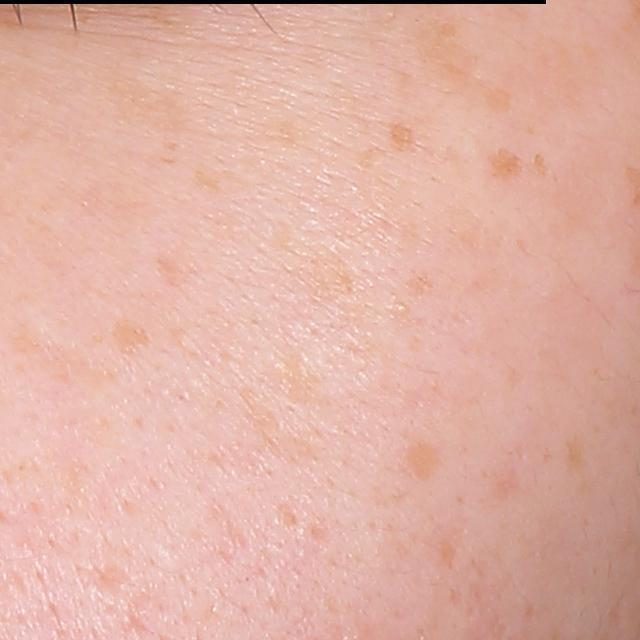melasma: (253, 213, 378, 311), (404, 10, 516, 108), (238, 383, 322, 462), (262, 347, 331, 407), (188, 162, 250, 195), (152, 248, 194, 291), (475, 143, 519, 179), (563, 437, 591, 493), (411, 440, 444, 476), (387, 123, 421, 156), (405, 264, 439, 296)
